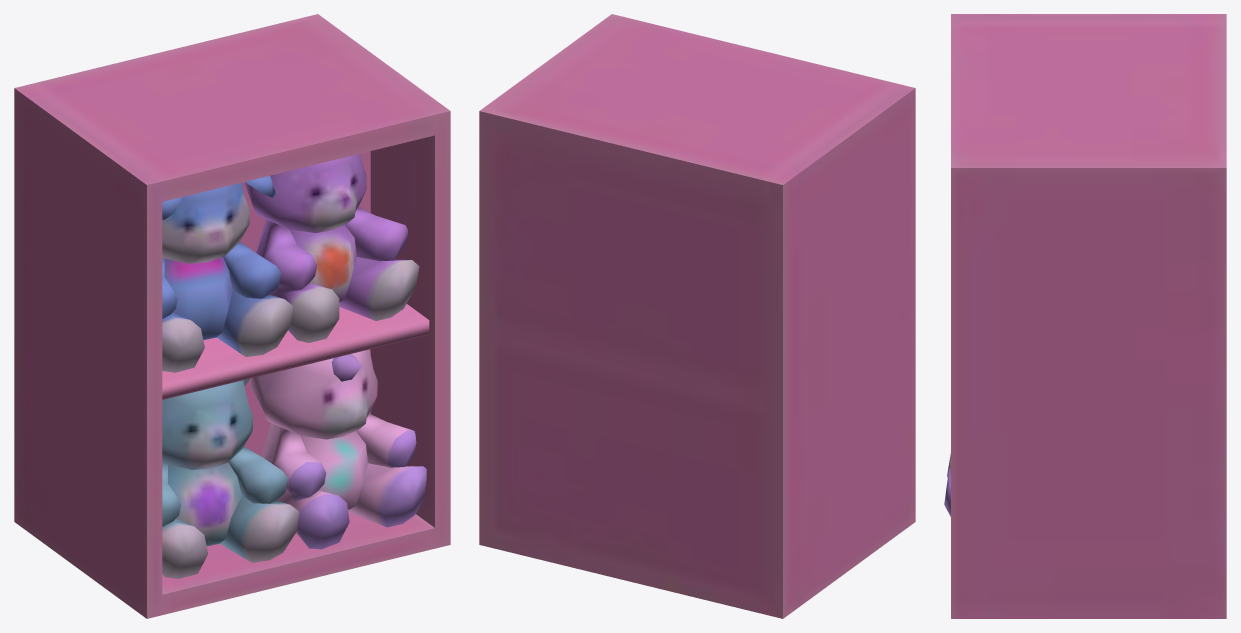
3 renders of one model, left to right at view 1: azimuth 30°, elevation 25°; view 2: azimuth 150°, elevation 25°; view 3: azimuth 270°, elevation 25°, orthographic. The views are drawn at different scales.
Bounding box in the file's own units: 10 × 13.65 × 7.75.
1 material, 1 textured.
